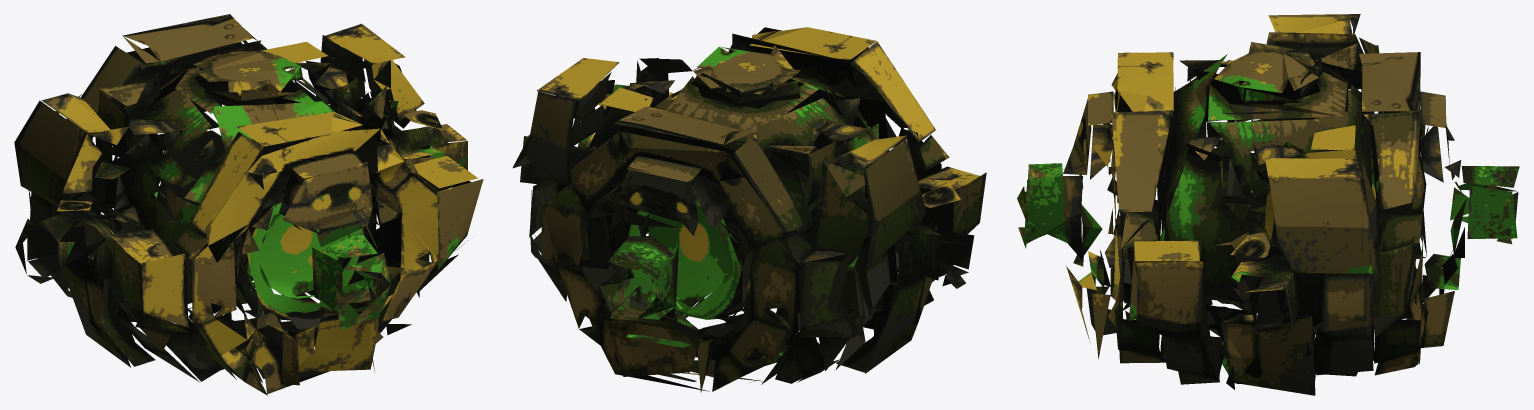
The model's file is co_bile.glb.
3 renders of one model, left to right at view 1: azimuth 30°, elevation 25°; view 2: azimuth 150°, elevation 25°; view 3: azimuth 270°, elevation 25°, orthographic. The views are drawn at different scales.
Parts seen in each view (by area): view 1: co_bile; view 2: co_bile; view 3: co_bile.
Part boxes in pixels (x1,y1,x2,y2): co_bile: (14,14,483,395); co_bile: (512,27,986,392); co_bile: (1017,14,1519,395).
Size of the model in its own units: 0.1298 by 0.083 by 0.1271.
1 material, 1 textured.
